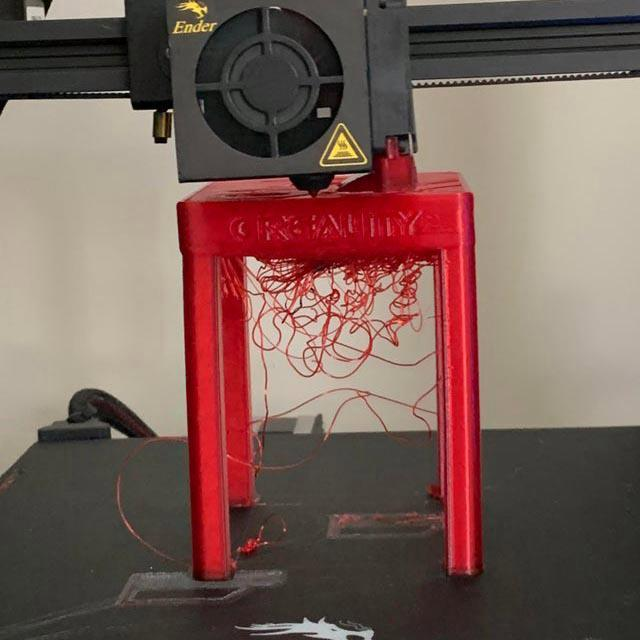Spaghetti: (215, 253, 440, 478), (230, 510, 290, 570)
